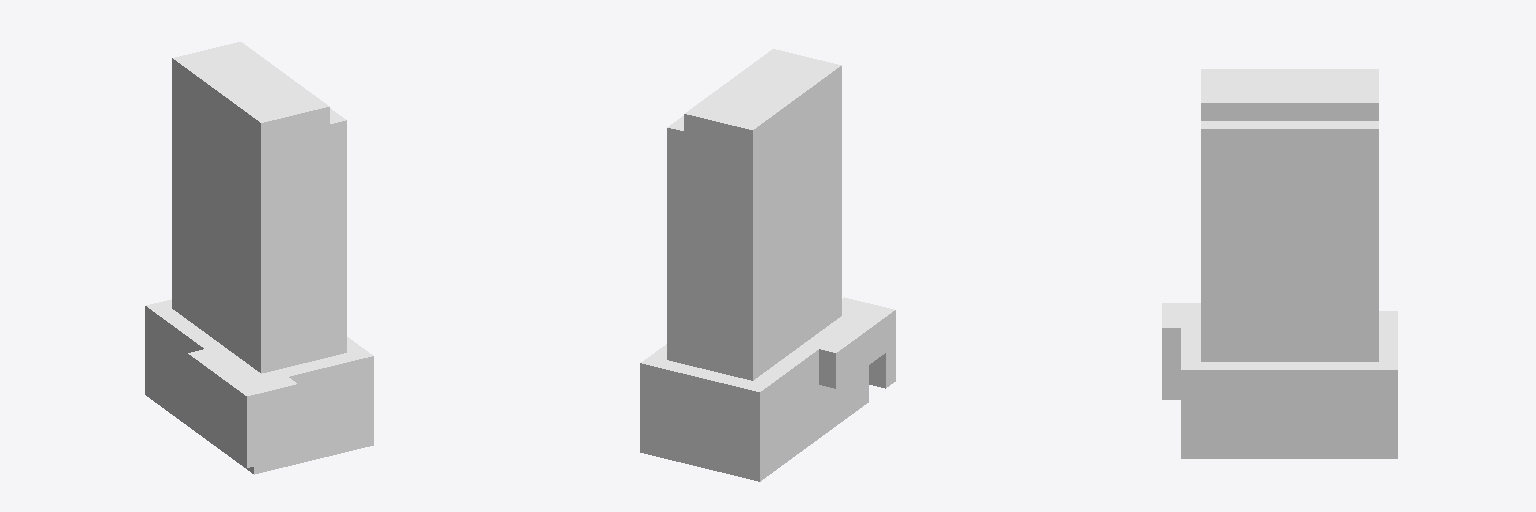
Rendered from bambooPanda-2.obj.
3 views of the same model, side by side, from view 1: azimuth 30°, elevation 25°; view 2: azimuth 150°, elevation 25°; view 3: azimuth 270°, elevation 25° (orthographic).
Parts seen in each view (by area): view 1: object 1; view 2: object 1; view 3: object 1.
Boxes of the visible parts, x1,y1,x2,y2 form: object 1: [145, 42, 373, 474]; object 1: [640, 49, 895, 481]; object 1: [1162, 69, 1397, 458].
Size of the model in its own units: 0.8 by 1.9 by 1.2.